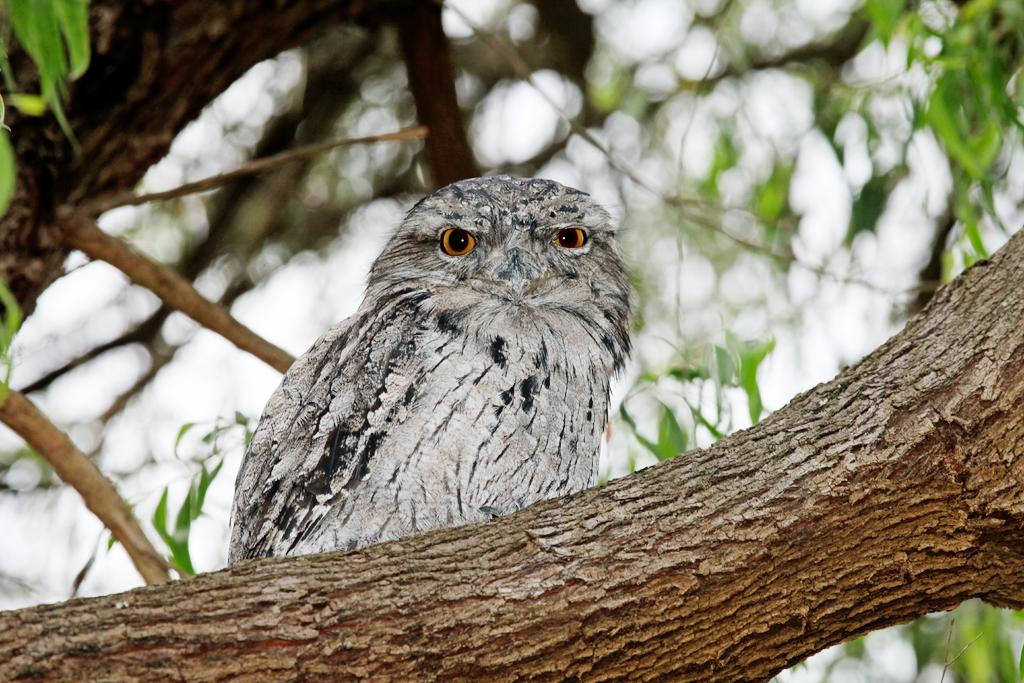Owl: (224, 178, 626, 573)
